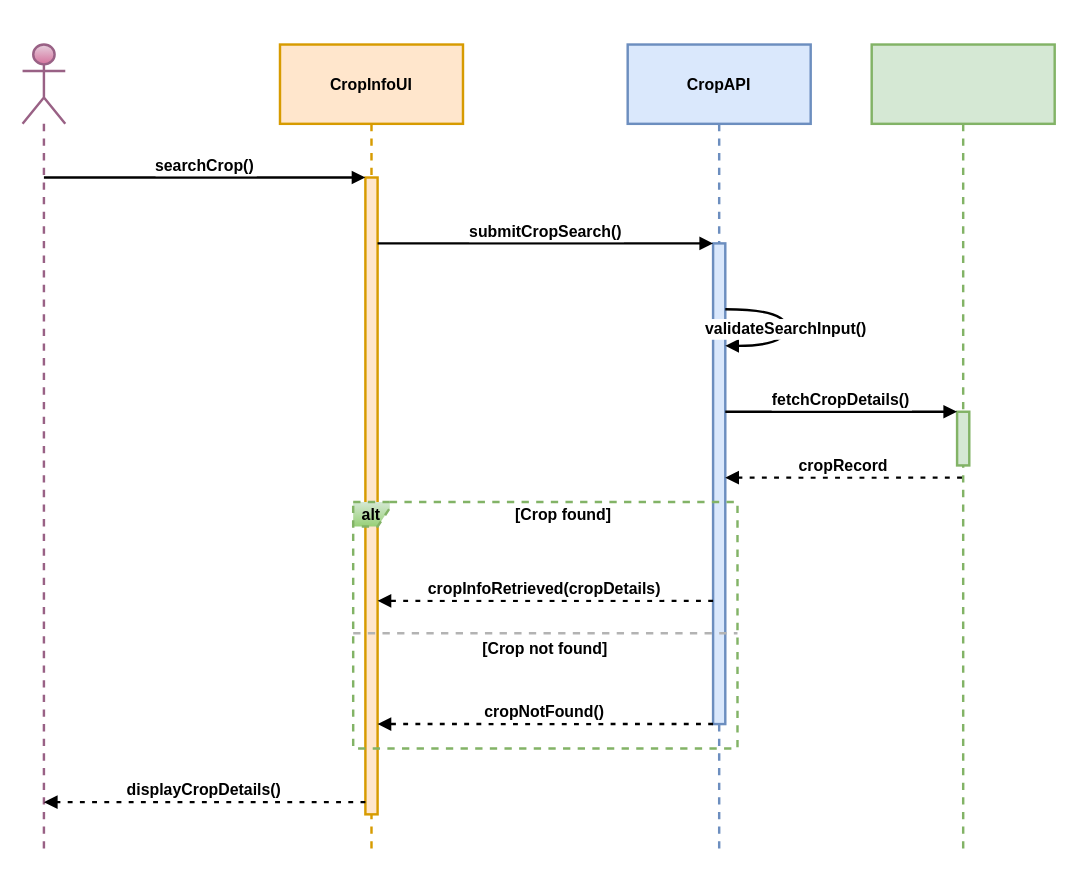
Image size: 1076x871. Some labels were removed from this diagram. The box of each missing label's shape, as (x1, y1, x2, y2) in pixels:
CropDatabase: (870, 43, 1055, 850)
User: (21, 43, 66, 850)
